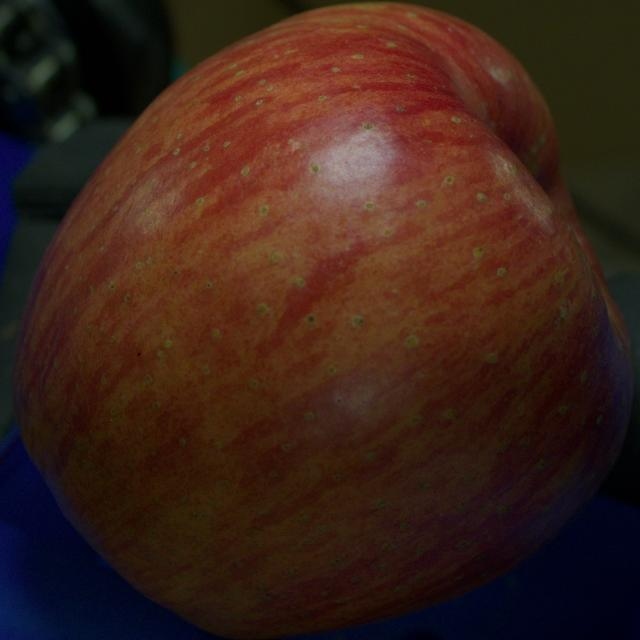apple: (14, 3, 633, 638)
